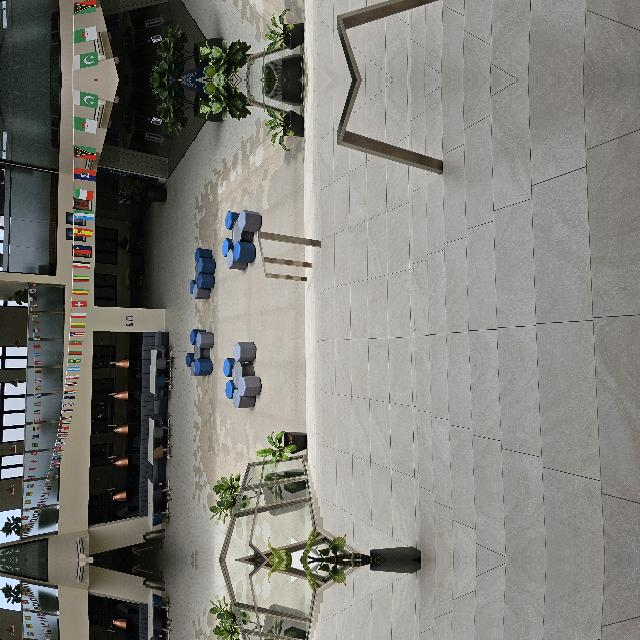obstacle: (396, 405, 479, 527), (269, 336, 339, 400), (284, 291, 360, 345), (396, 593, 479, 640), (145, 300, 223, 342), (408, 343, 452, 389), (95, 340, 135, 390)
